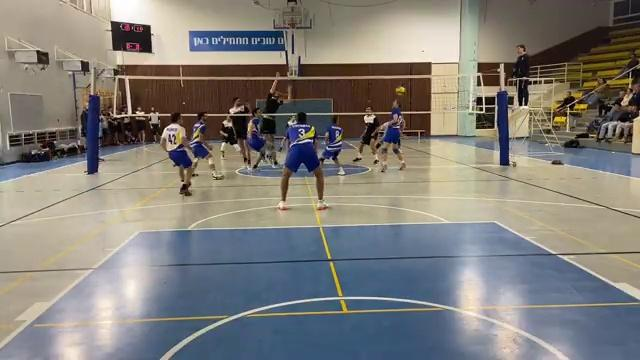ball: (394, 83, 409, 96)
